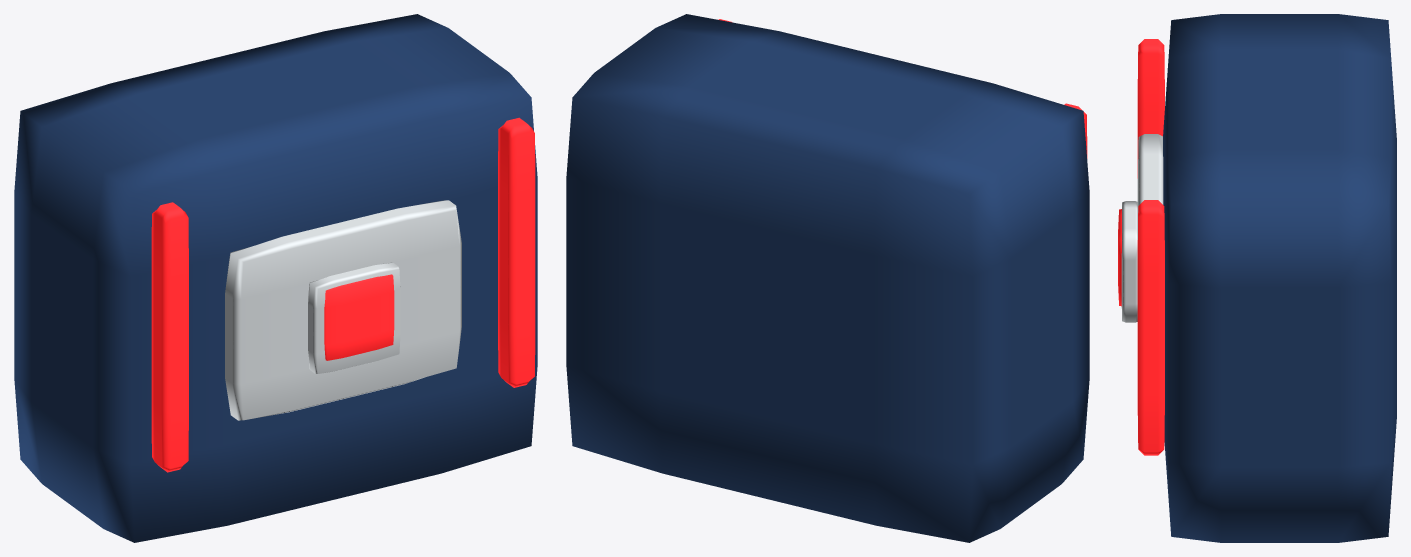
Rendered from uniform-usa-tech.glb.
3 renders of one model, left to right at view 1: azimuth 30°, elevation 25°; view 2: azimuth 150°, elevation 25°; view 3: azimuth 270°, elevation 25°, orthographic. The views are drawn at different scales.
Parts seen in each view (by area): view 1: Torso, Panel, StripeL, StripeR, Core, StarCore; view 2: Torso; view 3: Torso, StripeR, StripeL, StarCore, Panel, Core.
Boxes of the visible parts, bbox=[...] form: Torso: bbox=[14, 14, 537, 542]; Panel: bbox=[225, 200, 461, 420]; StripeL: bbox=[151, 202, 188, 472]; StripeR: bbox=[498, 117, 535, 387]; Core: bbox=[324, 274, 394, 360]; StarCore: bbox=[308, 262, 400, 373]; Torso: bbox=[566, 14, 1089, 542]; Torso: bbox=[1163, 14, 1396, 542]; StripeR: bbox=[1137, 200, 1164, 455]; StripeL: bbox=[1137, 39, 1164, 178]; StarCore: bbox=[1121, 201, 1137, 322]; Panel: bbox=[1137, 134, 1163, 239]; Core: bbox=[1118, 209, 1121, 306].
Size of the model in its own units: 2.05 by 1.72 by 1.22.
